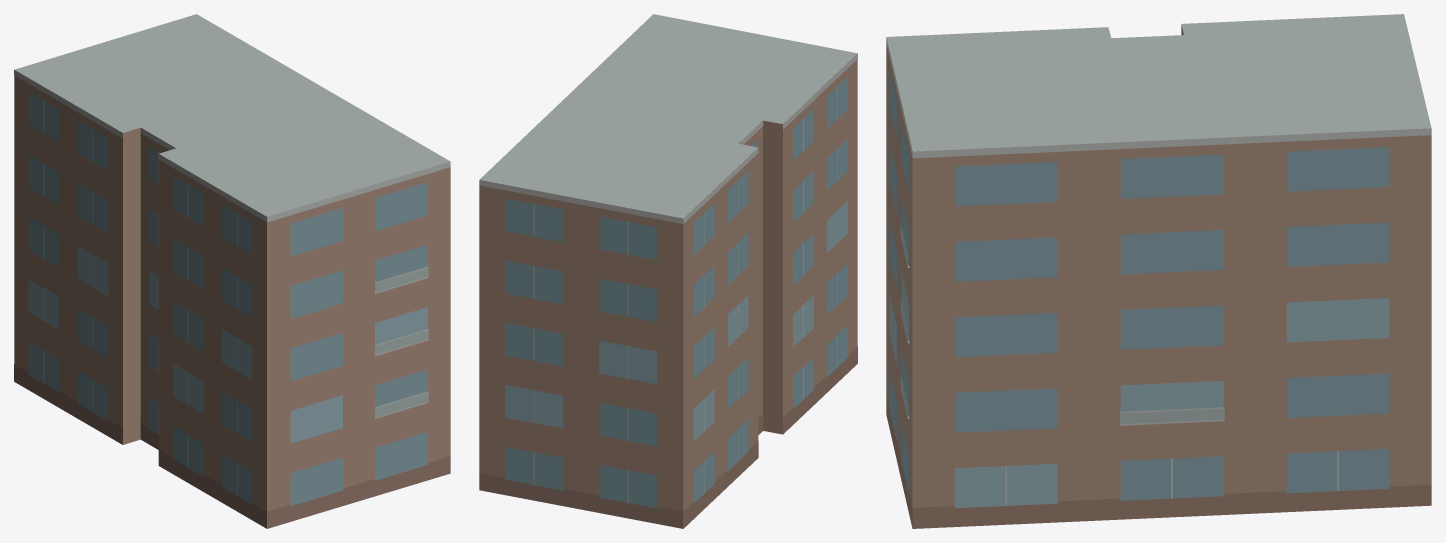
The model's file is survey-upis-32659742.glb.
3 renders of one model, left to right at view 1: azimuth 30°, elevation 25°; view 2: azimuth 150°, elevation 25°; view 3: azimuth 270°, elevation 25°, orthographic. The views are drawn at different scales.
Visible parts, largest first — view 1: survey-upis-32659742.tmp; view 2: survey-upis-32659742.tmp; view 3: survey-upis-32659742.tmp.
Part boxes in pixels (box(x1,y1,x2,y2)): survey-upis-32659742.tmp: box(14, 14, 450, 528); survey-upis-32659742.tmp: box(479, 14, 857, 528); survey-upis-32659742.tmp: box(886, 14, 1431, 528).
Size of the model in its own units: 10.65 by 13.6 by 17.83.
